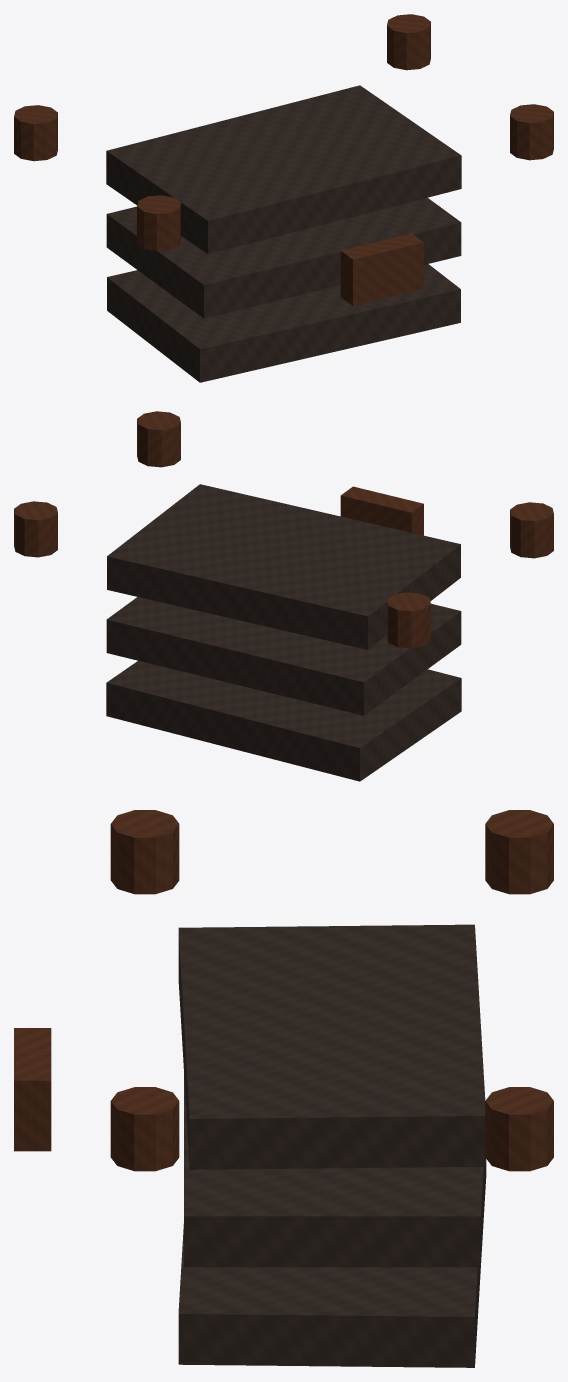
File: underworld-refined-tempered-slag.glb
The picture shows the model from 3 angles, top to bottom: view 1: azimuth 30°, elevation 25°; view 2: azimuth 150°, elevation 25°; view 3: azimuth 270°, elevation 25°; orthographic projection. The views are drawn at different scales.
Visible parts, largest first — view 1: plate-2, plate-0, plate-1, maker-key, rivet--1-1, rivet--1--1, rivet-1--1, rivet-1-1; view 2: plate-2, plate-0, plate-1, maker-key, rivet--1--1, rivet--1-1, rivet-1-1, rivet-1--1; view 3: plate-2, plate-0, plate-1, rivet--1--1, rivet-1--1, rivet--1-1, rivet-1-1, maker-key.
Boxes of the visible parts, x1,y1,x2,y2 form: plate-2: (106, 85, 461, 254); plate-0: (107, 264, 460, 382); plate-1: (106, 198, 461, 318); maker-key: (340, 233, 423, 305); rivet--1-1: (14, 105, 57, 161); rivet--1--1: (137, 195, 180, 251); rivet-1--1: (510, 104, 553, 160); rivet-1-1: (387, 14, 430, 70); plate-2: (107, 484, 460, 649); plate-0: (106, 660, 461, 781); plate-1: (106, 597, 461, 715); maker-key: (340, 486, 423, 535); rivet--1--1: (510, 502, 553, 558); rivet--1-1: (387, 592, 430, 648); rivet-1-1: (14, 501, 57, 557); rivet-1--1: (137, 411, 180, 467); plate-2: (178, 924, 486, 1169); plate-0: (178, 1166, 486, 1367); plate-1: (184, 1074, 480, 1267); rivet--1--1: (110, 810, 179, 894); rivet-1--1: (110, 1087, 179, 1171); rivet--1-1: (485, 810, 553, 894); rivet-1-1: (485, 1087, 553, 1171); maker-key: (14, 1028, 51, 1151).
Size of the model in its own units: 0.2309 by 0.109 by 0.173.
2 materials, 2 textured.
